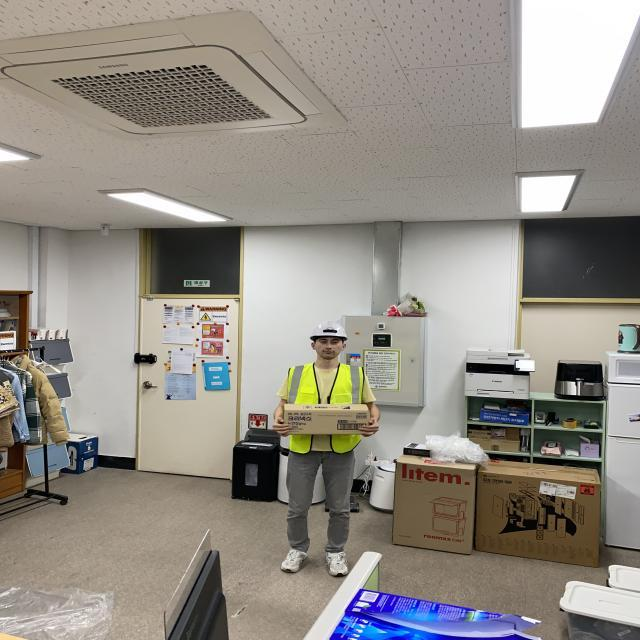bare_hand: (269, 416, 297, 437), (359, 417, 382, 438)
